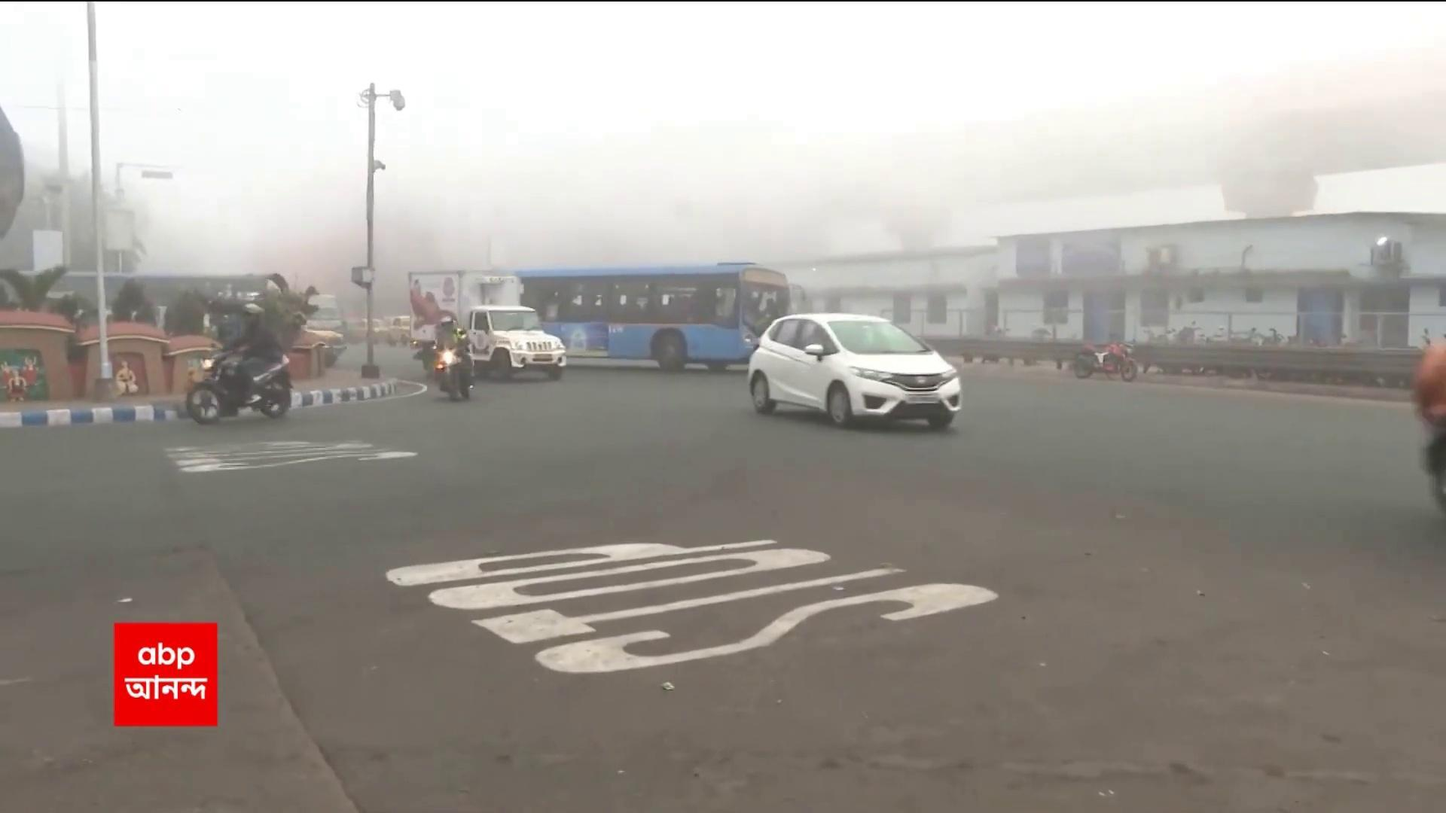Bike: (182, 298, 296, 424), (431, 316, 474, 404)
Bus: (516, 253, 795, 368)
Car: (746, 310, 965, 429)
Truck: (407, 258, 572, 379)
